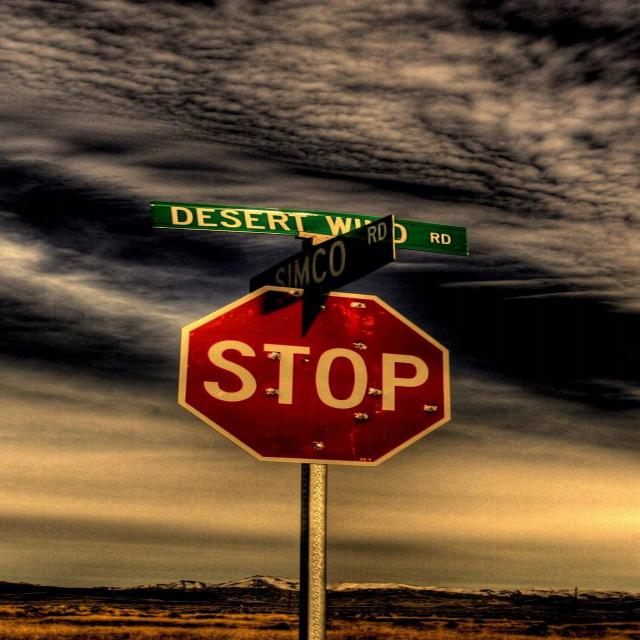stop: (174, 282, 461, 468)
